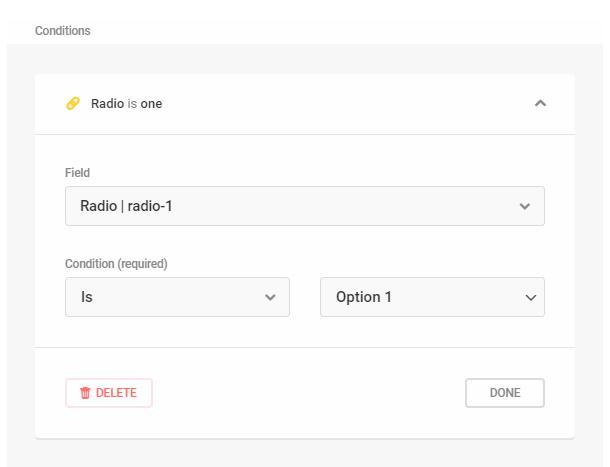button: (65, 378, 156, 408), (465, 379, 548, 409)
dropdown: (66, 186, 547, 228), (67, 277, 292, 320), (321, 279, 545, 318)
icon: (59, 96, 88, 116)
label: (65, 251, 174, 275), (93, 98, 170, 114), (65, 165, 102, 185)
